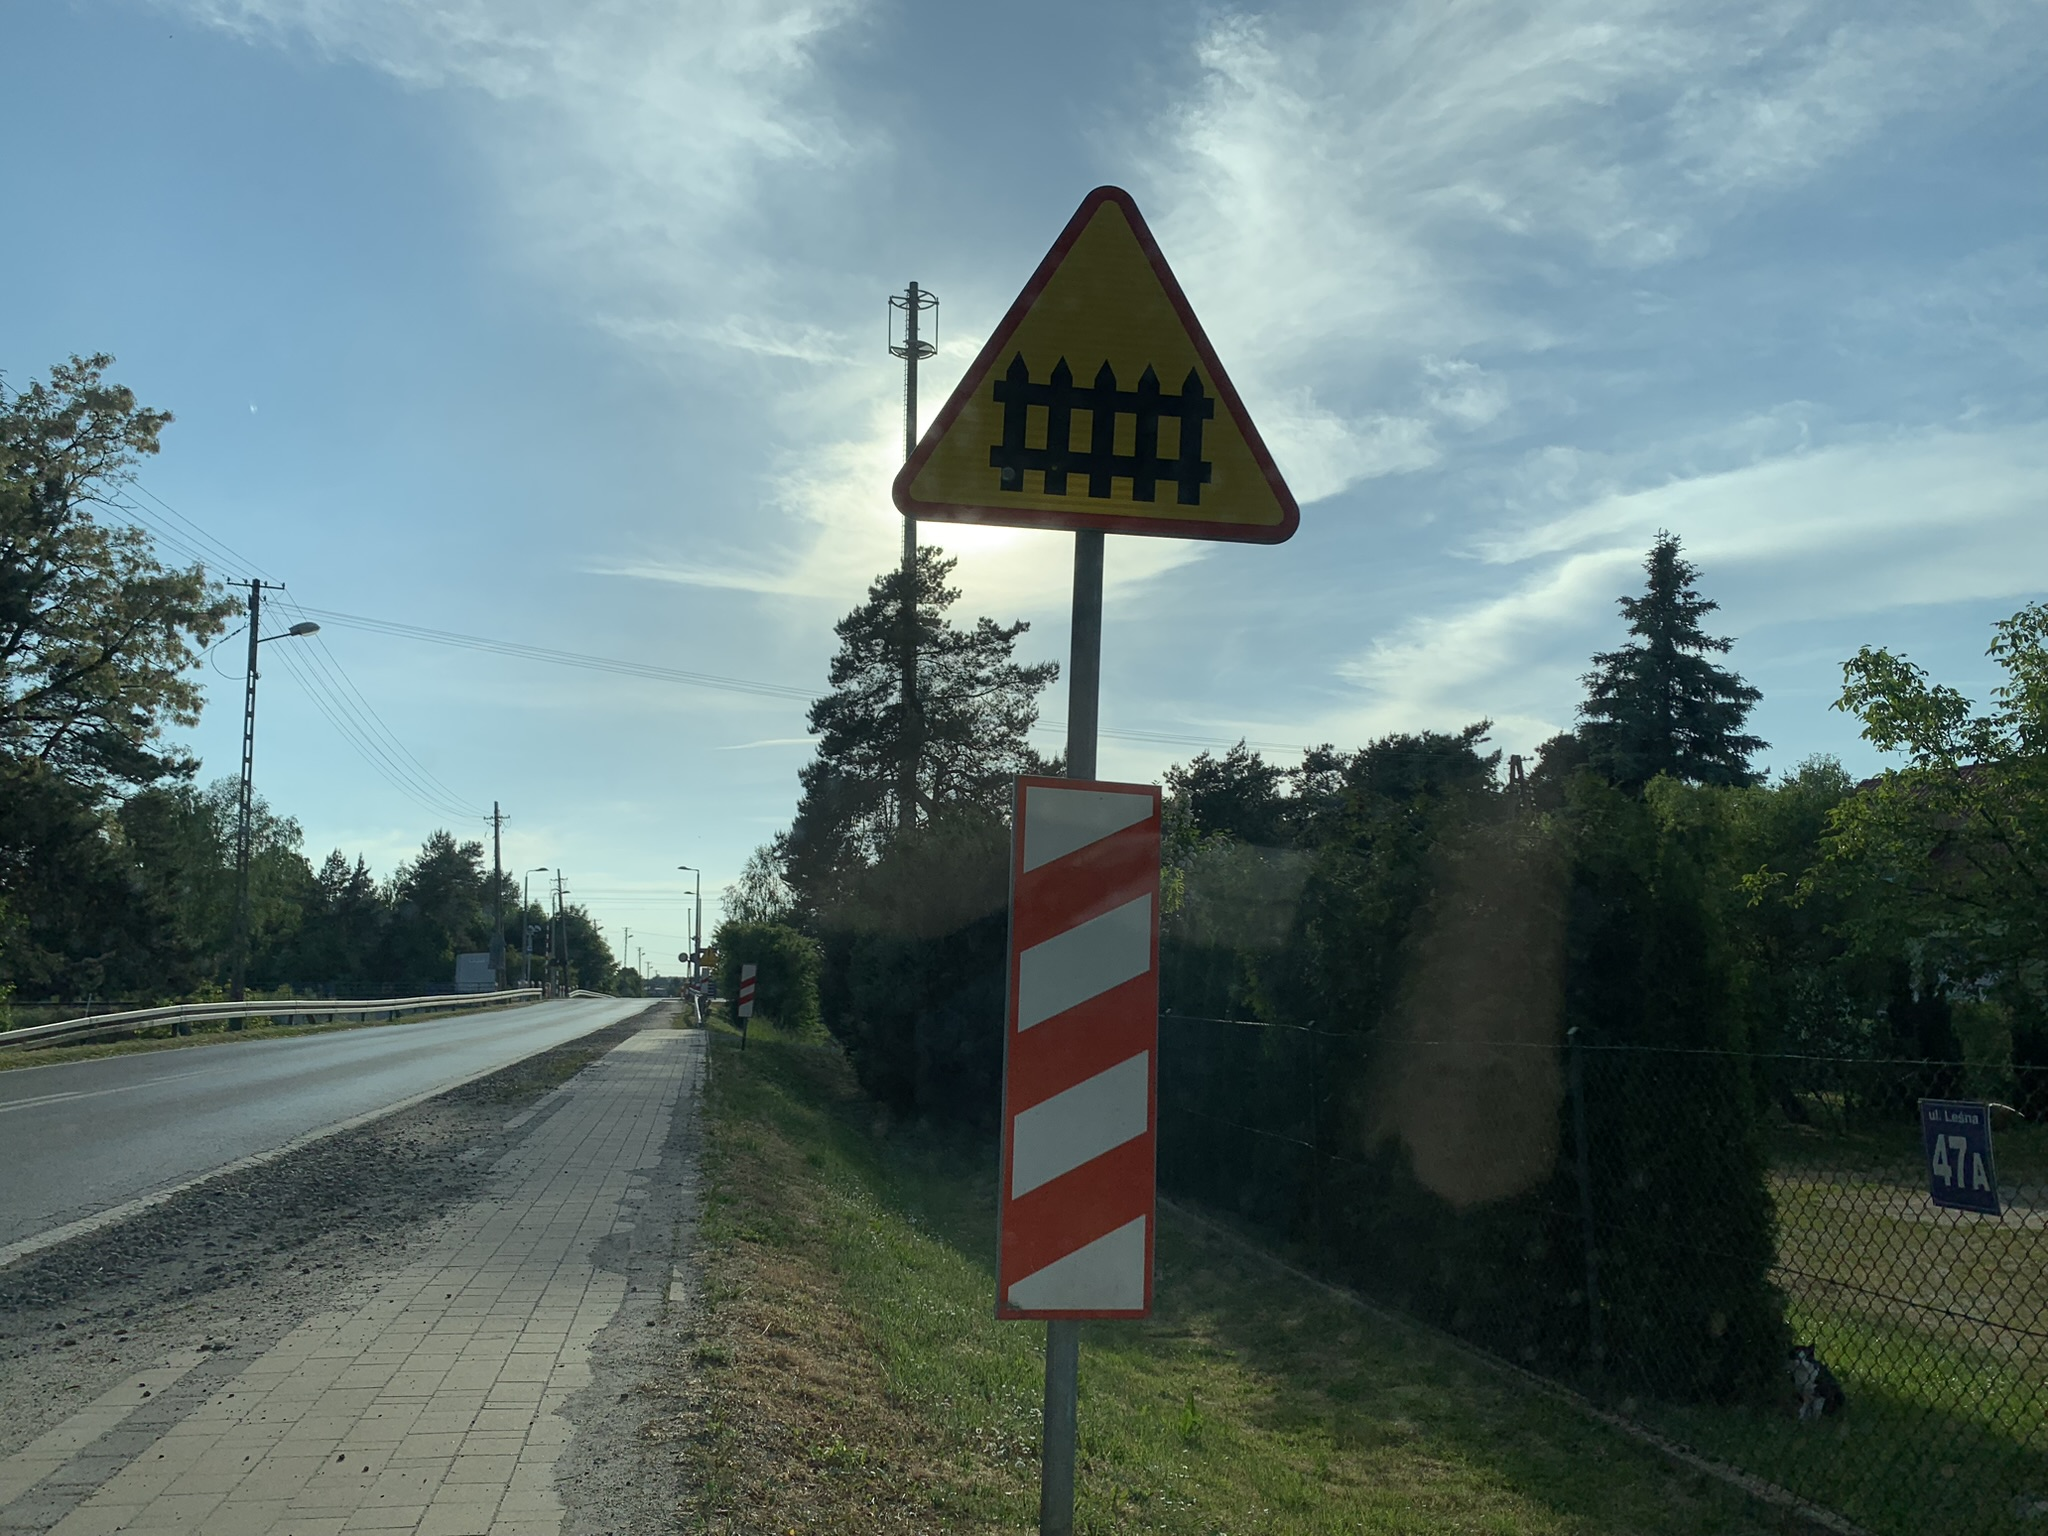a9: (972, 336, 1234, 521)
